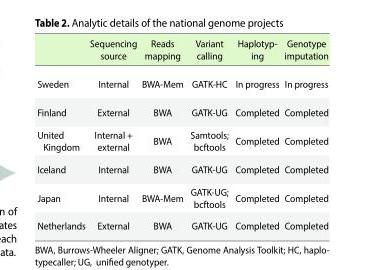table: (36, 36, 327, 231)
table column: (86, 36, 138, 231), (36, 36, 86, 231), (231, 36, 281, 231), (138, 36, 186, 231), (281, 36, 327, 231), (186, 36, 231, 231)
table column header: (36, 36, 327, 68)
table row: (36, 122, 327, 157), (36, 180, 327, 214), (36, 36, 327, 68), (36, 68, 327, 97), (36, 97, 327, 122), (36, 157, 327, 180), (36, 214, 327, 231)
